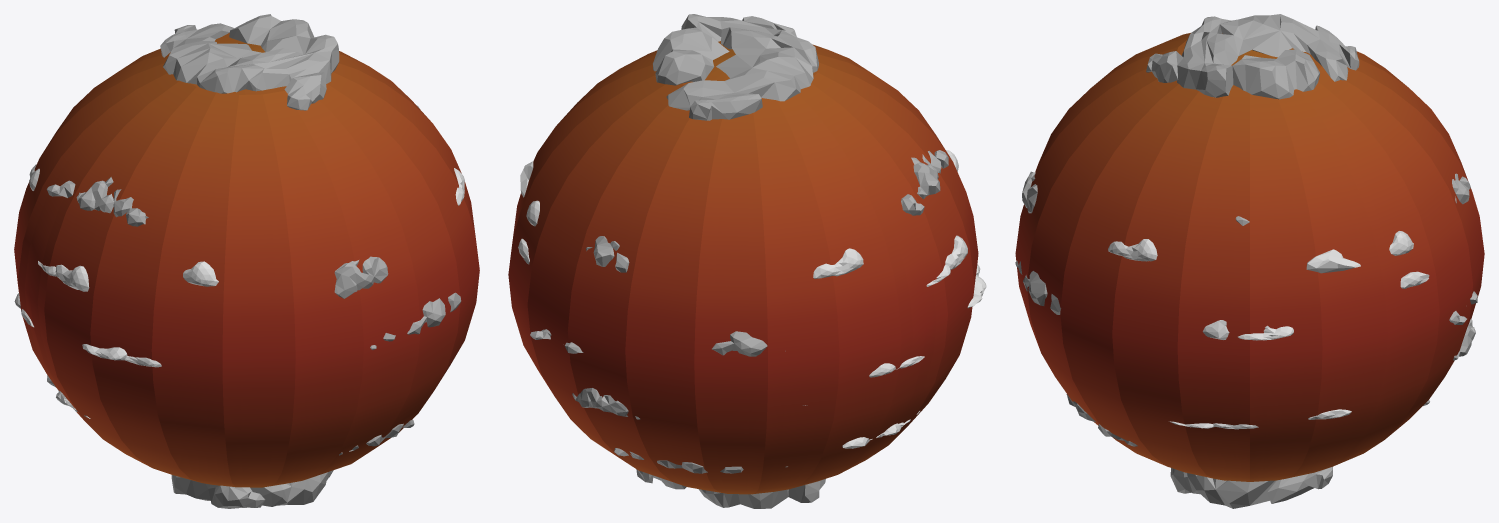
File: taooineSky.fbx
The picture shows the model from 3 angles, left to right: view 1: azimuth 30°, elevation 25°; view 2: azimuth 150°, elevation 25°; view 3: azimuth 270°, elevation 25°; orthographic projection.
Visible parts, largest first — view 1: tatooine_sky, cloud20, cloud19, polySurface14, polySurface8, polySurface7, polySurface13, polySurface10; view 2: tatooine_sky, cloud20, cloud19, polySurface14, polySurface17, polySurface26, polySurface15, polySurface6, polySurface25; view 3: tatooine_sky, cloud20, cloud19, polySurface20, polySurface9, polySurface7.
Boxes of the visible parts, left/top/right/bottom form: tatooine_sky: left=14, top=33, right=479, bottom=487; cloud20: left=160, top=14, right=339, bottom=110; cloud19: left=171, top=470, right=333, bottom=508; polySurface14: left=47, top=177, right=148, bottom=226; polySurface8: left=334, top=256, right=388, bottom=298; polySurface7: left=370, top=292, right=461, bottom=349; polySurface13: left=55, top=264, right=89, bottom=291; polySurface10: left=183, top=261, right=218, bottom=286; tatooine_sky: left=508, top=41, right=978, bottom=494; cloud20: left=652, top=14, right=818, bottom=120; cloud19: left=636, top=469, right=825, bottom=508; polySurface14: left=901, top=150, right=948, bottom=215; polySurface17: left=712, top=331, right=785, bottom=356; polySurface26: left=572, top=388, right=640, bottom=419; polySurface15: left=813, top=248, right=863, bottom=278; polySurface6: left=586, top=236, right=629, bottom=272; polySurface25: left=614, top=448, right=787, bottom=473; tatooine_sky: left=1015, top=33, right=1484, bottom=481; cloud20: left=1146, top=14, right=1359, bottom=99; cloud19: left=1170, top=466, right=1332, bottom=508; polySurface20: left=1306, top=249, right=1360, bottom=273; polySurface9: left=1108, top=239, right=1157, bottom=261; polySurface7: left=1015, top=261, right=1060, bottom=314.
Bounding box in the file's own units: 546 × 566 × 542.
